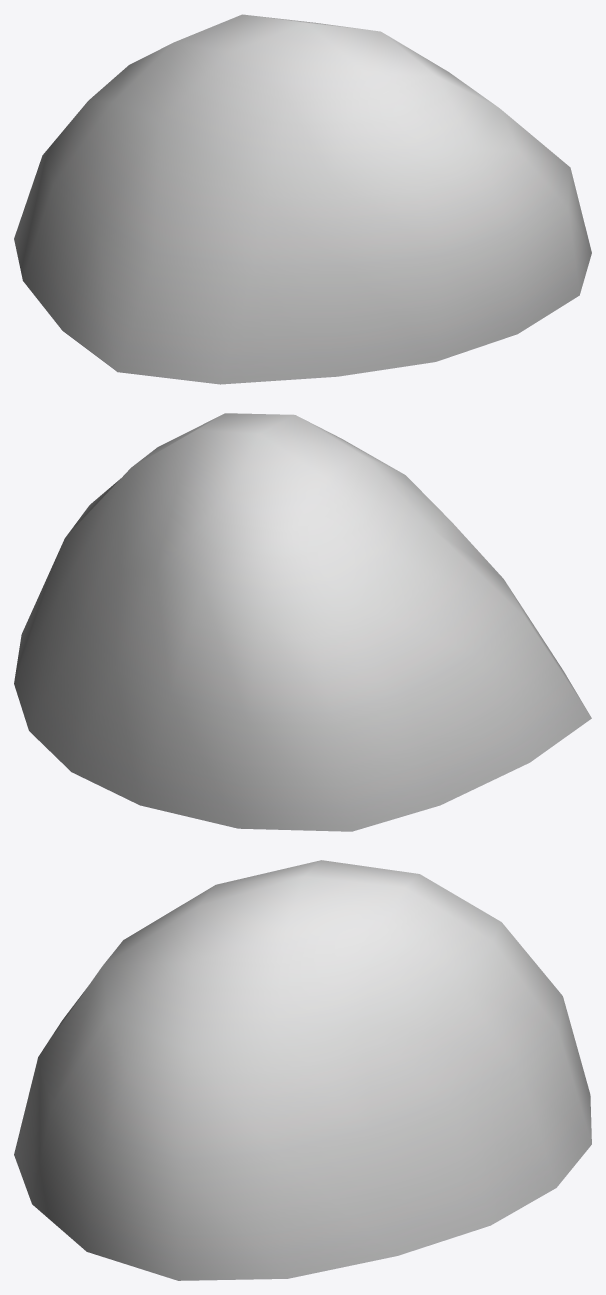
The model's file is map.fbx.
The picture shows the model from 3 angles, top to bottom: view 1: azimuth 30°, elevation 25°; view 2: azimuth 150°, elevation 25°; view 3: azimuth 270°, elevation 25°; orthographic projection. The views are drawn at different scales.
Visible parts, largest first — view 1: Cube; view 2: Cube; view 3: Cube.
Boxes of the visible parts, x1,y1,x2,y2 form: Cube: (14, 14, 591, 384); Cube: (14, 413, 591, 831); Cube: (14, 860, 591, 1280).
Size of what is drawn, in the model's own units: 6.58 by 3.23 by 6.09.
1 material, 1 textured.
